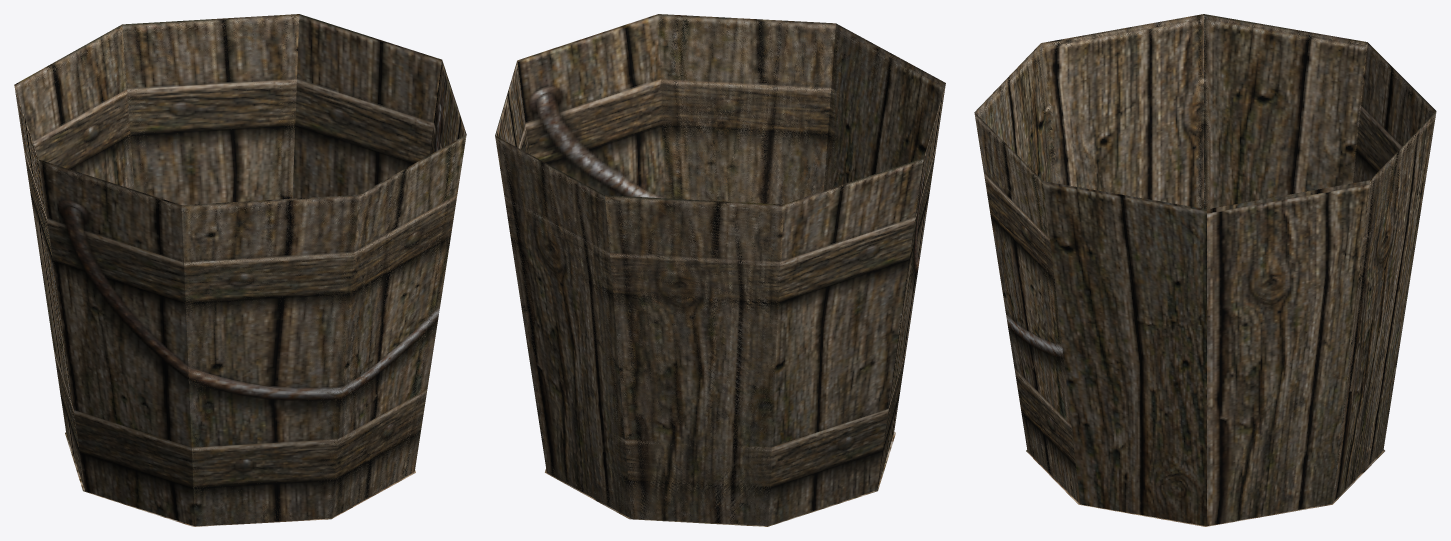
The model's file is mm9_deco_bucket01.glb.
The picture shows the model from 3 angles, left to right: view 1: azimuth 30°, elevation 25°; view 2: azimuth 150°, elevation 25°; view 3: azimuth 270°, elevation 25°; orthographic projection.
Visible parts, largest first — view 1: Bucket01; view 2: Bucket01; view 3: Bucket01.
Boxes of the visible parts, x1=… form: Bucket01: x1=14, y1=14, x2=466, y2=526; Bucket01: x1=495, y1=14, x2=945, y2=526; Bucket01: x1=974, y1=14, x2=1436, y2=526.
Bounding box in the file's own units: 0.489 × 0.3962 × 0.489.
1 material, 1 textured.
